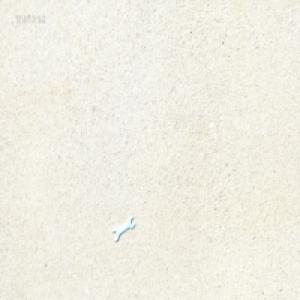Wrench: (112, 216, 134, 243)
